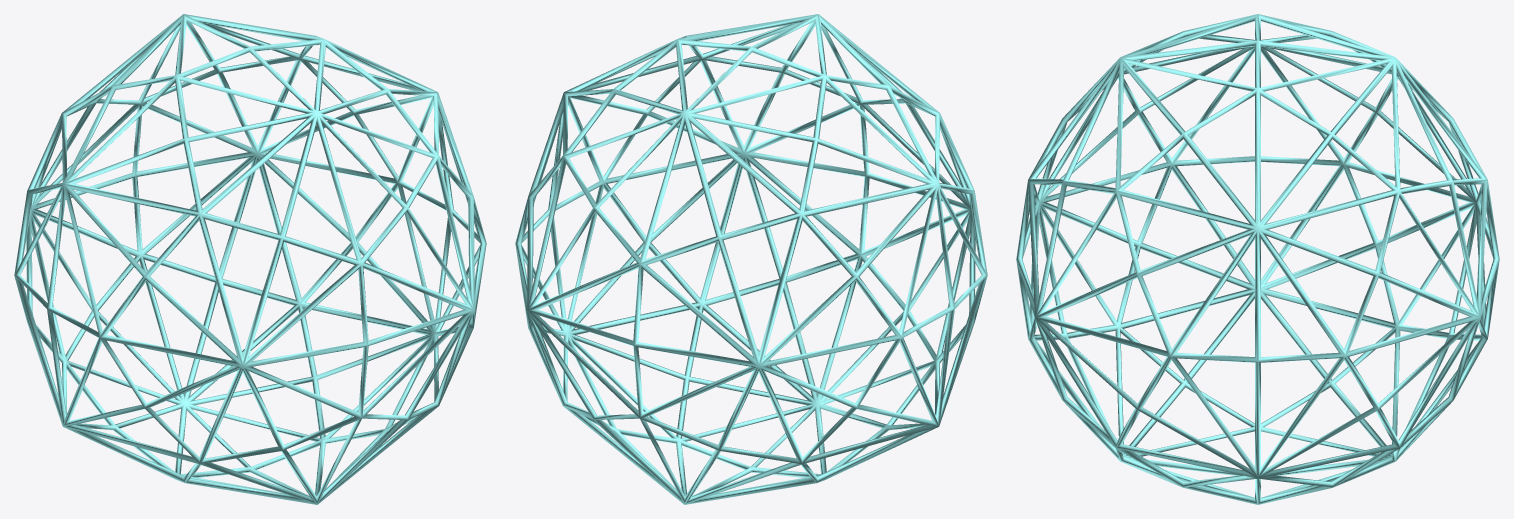
Rendered from DisdyakisTriacontahedron1.glb.
3 views of the same model, side by side, from view 1: azimuth 30°, elevation 25°; view 2: azimuth 150°, elevation 25°; view 3: azimuth 270°, elevation 25° (orthographic). The views are drawn at different scales.
Visible parts, largest first — view 1: DisdyakisTriacontahedron; view 2: DisdyakisTriacontahedron; view 3: DisdyakisTriacontahedron.
Part boxes in pixels (x1,y1,x2,y2): DisdyakisTriacontahedron: (14,14,486,504); DisdyakisTriacontahedron: (515,14,987,504); DisdyakisTriacontahedron: (1016,14,1499,504).
Bounding box in the file's own units: 7.71 × 7.71 × 7.71.
